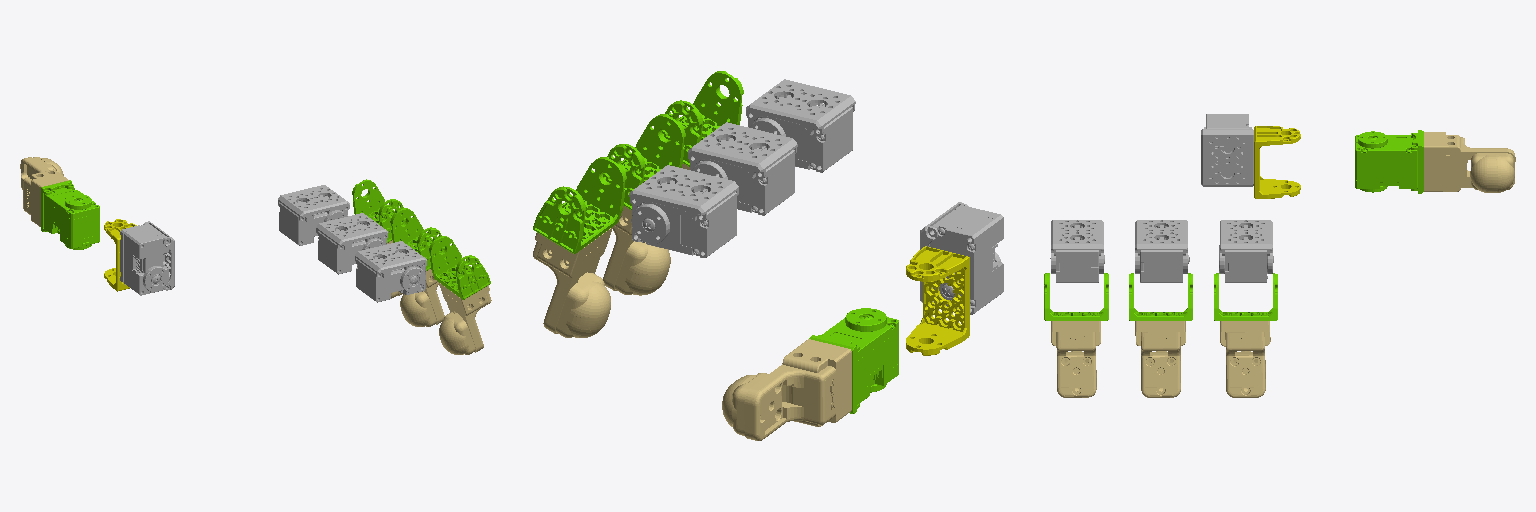
--- Facts derived from the render (not from the file) ---
Views: 3 orthographic renders of the robot side by side, from view 1: azimuth 30°, elevation 25°; view 2: azimuth 150°, elevation 25°; view 3: azimuth 270°, elevation 25°.
Robot: leap_right_dottip — 29 links, 28 joints (16 revolute, 12 fixed); root link palm_center; default pose: all joints at 0 but 3 set to mid-range because 0 is outside their limits (j3 = 1.25, j7 = 1.25, j11 = 1.25).
Links seen in each view (by area): view 1: pip_4, pip_3, thumb_tip_base, pip, pip_2, fingertip_rf, tip_base_3, thumb_fingertip, fingertip_mf, tip_base, tip_base_2, thumb_pip; view 2: thumb_fingertip, pip, pip_2, pip_3, fingertip_if, tip_base, pip_4, thumb_pip, thumb_tip_base, fingertip_mf, tip_base_2, tip_base_3; view 3: thumb_fingertip, thumb_tip_base, pip_4, fingertip_mf, pip, fingertip_if, pip_2, fingertip_rf, pip_3, thumb_pip, tip_base_3, tip_base_2 (+1 smaller).
Link boxes in pixels (x1=…): pip_4: x1=120, y1=221, x2=174, y2=295; pip_3: x1=355, y1=241, x2=426, y2=302; thumb_tip_base: x1=41, y1=180, x2=99, y2=249; pip: x1=278, y1=185, x2=349, y2=245; pip_2: x1=316, y1=213, x2=388, y2=274; fingertip_rf: x1=438, y1=282, x2=491, y2=354; tip_base_3: x1=429, y1=236, x2=490, y2=299; thumb_fingertip: x1=20, y1=157, x2=68, y2=226; fingertip_mf: x1=400, y1=245, x2=444, y2=326; tip_base: x1=352, y1=179, x2=406, y2=242; tip_base_2: x1=390, y1=208, x2=445, y2=270; thumb_pip: x1=104, y1=219, x2=136, y2=291; thumb_fingertip: x1=722, y1=339, x2=851, y2=440; pip: x1=629, y1=165, x2=738, y2=257; pip_2: x1=688, y1=122, x2=797, y2=215; pip_3: x1=746, y1=79, x2=855, y2=172; fingertip_if: x1=533, y1=227, x2=612, y2=337; tip_base: x1=533, y1=157, x2=626, y2=253; pip_4: x1=920, y1=202, x2=1003, y2=314; thumb_pip: x1=906, y1=246, x2=969, y2=355; thumb_tip_base: x1=809, y1=308, x2=898, y2=413; fingertip_mf: x1=603, y1=206, x2=670, y2=295; tip_base_2: x1=601, y1=114, x2=685, y2=209; tip_base_3: x1=660, y1=71, x2=743, y2=166; thumb_fingertip: x1=1424, y1=132, x2=1515, y2=192; thumb_tip_base: x1=1355, y1=130, x2=1423, y2=193; pip_4: x1=1201, y1=114, x2=1253, y2=186; fingertip_mf: x1=1135, y1=321, x2=1185, y2=397; pip: x1=1219, y1=220, x2=1273, y2=282; fingertip_if: x1=1220, y1=321, x2=1270, y2=397; pip_2: x1=1135, y1=220, x2=1189, y2=282; fingertip_rf: x1=1051, y1=321, x2=1100, y2=397; pip_3: x1=1050, y1=220, x2=1104, y2=282; thumb_pip: x1=1254, y1=126, x2=1300, y2=198; tip_base_3: x1=1044, y1=273, x2=1108, y2=320; tip_base_2: x1=1129, y1=273, x2=1192, y2=320.
Bounding box of the posed robot: 0.1937 × 0.2533 × 0.0842 m (x, y, z).
Meshes: 10 distinct files referenced, 13 mesh visuals loaded (6 Collada DAE); not drawn: 8 (reference not matched to a file when rendering).

The robot description file, URDF, robot "leap_right_dottip":
<?xml version="1.0"?>

<robot name="leap_right_dottip">

    <link name="palm_center">
    </link>

    <joint name="palm_joint" type="fixed">
        <parent link="palm_center" />
        <child link="palm_lower" />
        <origin xyz="0.07 0.02239 0.0"
            rpy="0 0 0" />
    </joint>


    <link name="palm_lower">
        <visual>
            <origin xyz="-0.0200 0.02575 -0.0347" rpy="0 -0 0" />
            <geometry>
                <mesh filename="./meshes/palm_lower.dae"/>
            </geometry>
            <material name="palm_lower_material">
                <color rgba="0.60392 0.14902 0.14902 1.0"/>
            </material>
        </visual>
        <collision>
            <origin xyz="-0.0200 0.02575 -0.0347" rpy="0 -0 0" />
            <geometry>
                <mesh filename="./meshes/palm_lower.dae"/>
            </geometry>
        </collision>
        <inertial>
            <origin xyz="0 0 0" rpy="0 0 0"/>
            <mass value="0.237" />
            <inertia ixx="0.000354094" ixy="-0.000001193" ixz="-0.000002445" iyy="0.000260915" iyz="-0.000002905" izz="0.000529257" />
        </inertial>
    </link>




    <link name="mcp_joint">
        <visual>
            <origin xyz="0.00840 0.00776 0.01466" rpy="0 0 0" />
            <geometry>
                <mesh filename="./meshes/mcp_joint.dae"/>
            </geometry>
            <material name="mcp_joint_material">
                <color rgba="0.86666 0.86666 0.050980 1.0"/>
            </material>
        </visual>
        <collision>
            <origin xyz="0.00840 0.00776 0.01466" rpy="0 0 0" />
            <geometry>
                <mesh filename="./meshes/mcp_joint.dae"/>
            </geometry>
        </collision>
        <inertial>
            <origin xyz="0 0 0" rpy="0 0 0"/>
            <mass value="0.044" />
            <inertia ixx="0.000011499" ixy="0.000003049" ixz="0.000000121" iyy="0.000007796" iyz="0.000000112" izz="0.000014759" />
        </inertial>
    </link>

    <joint name="j1" type="revolute">
        <origin xyz="-0.0070 0.0230 -0.0187" rpy="1.570796 1.570796 0" />
        <parent link="palm_lower" />
        <child link="mcp_joint" />
        <axis xyz="0 0 -1"/>
        <limit effort="0.95" velocity="8.48" lower = "-0.314" upper = "2.23"/>
        <!-- <joint_properties friction="0.0"/> -->
    </joint>


    <link name="pip">
        <visual>
            <origin xyz="0.00964 0.000299 0.000784" rpy="-1.570796 -1.570796 0" />
            <geometry>
                <mesh filename="./meshes/pip.dae"/>
            </geometry>
            <material name="pip_material">
                <color rgba="0.7490196 0.7490196 0.7490196 1.0"/>
            </material>
        </visual>
        <collision>
            <origin xyz="0.00964 0.000299 0.000784" rpy="-1.570796 -1.570796 0" />
            <geometry>
                <mesh filename="./meshes/pip.dae"/>
            </geometry>
        </collision>
        <inertial>
            <origin xyz="0 0 0" rpy="0 0 0"/>
            <mass value="0.032" />
            <inertia ixx="0.000004798" ixy="0.000000012" ixz="0.000000004" iyy="0.000002862" iyz="0.000000011" izz="0.000004234" />
        </inertial>
    </link>

    <joint name="j0" type="revolute">
        <origin xyz="-0.0122 0.0380 0.0145" rpy="-1.570796 0 1.570796" />
        <parent link="mcp_joint" />
        <child link="pip" />
        <axis xyz="0 0 -1"/>
        <!-- <limit effort="0.95" velocity="8.48" lower = "-0.80" upper = "0.05"/> -->
        <limit effort="0.95" velocity="8.48" lower = "-1.047" upper = "1.047"/>
        <!-- <joint_properties friction="0.0"/> -->
    </joint>

    <link name="dip">
        <visual>
            <origin xyz="0.021133 -0.0084321 0.009785" rpy="-3.1415926 0 0" />
            <geometry>
                <mesh filename="./meshes/dip.dae"/>
            </geometry>
            <!-- <material name="dip_material">
                <color rgba="0.866666 0.86666666 0.05098039 1.0"/>
            </material> -->
        </visual>
        <collision>
            <origin xyz="0.021133 -0.0084321 0.009785" rpy="-3.1415926 0 0" />
            <geometry>
                <mesh filename="./meshes/dip.dae"/>
            </geometry>
        </collision>
        <inertial>
            <origin xyz="0 0 0" rpy="0 0 0"/>
            <mass value="0.037" />
            <inertia ixx="0.000005542" ixy="-0.000000607" ixz="-0.000000017" iyy="0.000005727" iyz="-0.000000023" izz="0.000006682" />
        </inertial>
    </link>

    <joint name="j2" type="revolute">
        <origin xyz="0.01499 0.014299 -0.01299" rpy="1.570796 -1.570796 0" />
        <parent link="pip" />
        <child link="dip" />
        <axis xyz="0 0 -1"/>
        <limit effort="0.95" velocity="8.48" lower = "0.00" upper = "1.885"/>
        <!-- <joint_properties friction="0.0"/> -->
    </joint>

    <link name="tip_base">
        <visual>
            <origin xyz="0 -0.014 0.014499" rpy="3.14159 0 0 " />
            <geometry>
                <mesh filename="./meshes/tip_base.dae"/>
            </geometry>
            <material name="tip_base_material">
                <color rgba="0.46777 0.86666 0.05098 1.0"/>
            </material>
        </visual>
        <collision>
            <origin xyz="0 -0.014 0.014499" rpy="3.14159 0 0 " />
            <geometry>
                <mesh filename="./meshes/tip_base.dae"/>
            </geometry>
        </collision>
        <inertial>
            <origin xyz="0 0 0" rpy="0 0 0"/>
            <mass value="0.008" />
            <inertia ixx="0.000003368" ixy="0.000000115" ixz="0" iyy="0.000001556" iyz="0" izz="0.000002863" />
        </inertial>
    </link>

    <joint name="j3" type="revolute">
        <origin xyz="0 -0.03610 0 " rpy="0 0 0 " />
        <!-- <origin xyz="0 0 0 " rpy="0 0 0 " /> -->
        <parent link="dip" />
        <child link="tip_base" />
        <axis xyz="0 0 -1"/>
        <limit effort="0.95" velocity="8.48" lower = "0.50" upper = "2.00"/>
        <!-- <joint_properties friction="0.0"/> -->
    </joint>

    <link name="fingertip_if">
        <visual>
            <origin xyz="0 0 0" rpy="3.14159 0 -1.57080" />
            <geometry>
                <mesh filename="./meshes/DotTip.dae"/>
            </geometry>
            <material name="fingertip_material">
                <color rgba="0.8627 0.7868 0.5568 1.0"/>
            </material>
        </visual>
        <collision>
            <origin xyz="0 0 0" rpy="3.14159 0 -1.57080" />
            <geometry>
                <mesh filename="./meshes/DotTip.dae"/>
            </geometry>
        </collision>
        <inertial>
            <origin xyz="0 0 0" rpy="0 0 0"/>
            <mass value="0.016" />
            <inertia ixx="0.000003368" ixy="0.000000115" ixz="0" iyy="0.000001556" iyz="0" izz="0.000002863" />
        </inertial>
    </link>


    <joint name="if_tip" type="fixed">
        <origin xyz="-0.010  -0.048 0.014499" rpy="0 0 0 " />
        <parent link="tip_base" />
        <child link="fingertip_if" />
    </joint>

    <link name="if_tip_center">
    </link>
    <joint name="if_tip_center_joint" type="fixed">
        <parent link="fingertip_if" />
        <child link="if_tip_center" />
        <origin xyz="0 -0.010 0" rpy="-1.570796 0 -1.570796" />
    </joint>

    <link name="if_dip_upper">
    </link>
    <joint name="if_dip_upper_joint" type="fixed">
        <parent link="tip_base" />
        <child link="if_dip_upper" />
        <origin xyz="0.032 0 0" rpy="0 0 0" />
    </joint>


    <link name="mcp_joint_2">
        <visual>
            <origin xyz="0.0084 0.00776 0.0146576" rpy="0 0 0" />
            <geometry>
                <mesh filename="./meshes/mcp_joint.dae"/>
            </geometry>
            <material name="mcp_joint_material">
                <color rgba="0.86666666666666669627 0.86666666666666669627 0.050980392156862744391 1.0"/>
            </material>
        </visual>
        <collision>
            <origin xyz="0.0084 0.00776 0.0146576" rpy="0 0 0" />
            <geometry>
                <mesh filename="./meshes/mcp_joint.dae"/>
            </geometry>
        </collision>
        <inertial>
            <origin xyz="0 0 0" rpy="0 0 0"/>
            <mass value="0.044" />
            <inertia ixx="0.000011499" ixy="0.000003049" ixz="0.000000121" iyy="0.000007796" iyz="0.000000112" izz="0.000014759" />
        </inertial>
    </link>

    <link name="pip_2">
        <visual>
            <origin xyz="0.00964 0.000299 0.00078" rpy="-1.570796 -1.5707966 0" />
            <geometry>
                <mesh filename="./meshes/pip.dae"/>
            </geometry>
            <material name="pip_material">
                <color rgba="0.74901960784313725839 0.74901960784313725839 0.74901960784313725839 1.0"/>
            </material>
        </visual>
        <collision>
            <origin xyz="0.00964 0.000299 0.00078" rpy="-1.570796 -1.5707966 0" />
            <geometry>
                <mesh filename="./meshes/pip.dae"/>
            </geometry>
        </collision>
        <inertial>
            <origin xyz="0 0 0" rpy="0 0 0"/>
            <mass value="0.032" />
            <inertia ixx="0.000004798" ixy="0.000000012" ixz="0.000000004" iyy="0.000002862" iyz="0.000000011" izz="0.000004234" />
        </inertial>
    </link>

    <link name="dip_2">
        <visual>
            <origin xyz="0.02113 -0.008433 0.009785" rpy="-3.1415926 0 0 " />
            <geometry>
                <mesh filename="./meshes/dip.dae"/>
            </geometry>
            <!-- <material name="dip_material">
                <color rgba="0.8666666 0.86666666 0.050980 1.0"/>
            </material> -->
        </visual>
        <collision>
            <origin xyz="0.02113 -0.008433 0.009785" rpy="-3.1415926 0 0 " />
            <geometry>
                <mesh filename="./meshes/dip.dae"/>
            </geometry>
        </collision>
        <inertial>
            <origin xyz="0 0 0" rpy="0 0 0"/>
            <mass value="0.037" />
            <inertia ixx="0.000005542" ixy="-0.000000607" ixz="-0.000000017" iyy="0.000005727" iyz="-0.000000023" izz="0.000006682" />
        </inertial>
    </link>

    <link name="tip_base_2">
        <visual>
            <origin xyz="0 -0.014 0.014499" rpy="3.14159 0 0 " />
            <geometry>
                <mesh filename="./meshes/tip_base.dae"/>
            </geometry>
            <material name="tip_base_material">
                <color rgba="0.46777 0.86666666 0.05098039 1.0"/>
            </material>
        </visual>
        <collision>
            <origin xyz="0 -0.014 0.014499" rpy="3.14159 0 0 " />
            <geometry>
                <mesh filename="./meshes/tip_base.dae"/>
            </geometry>
        </collision>
        <inertial>
            <origin xyz="0 0 0" rpy="0 0 0"/>
            <mass value="0.008" />
            <inertia ixx="0.000003368" ixy="0.000000115" ixz="0" iyy="0.000001556" iyz="0" izz="0.000002863" />
        </inertial>
    </link>

    <link name="fingertip_mf">
        <visual>
            <origin xyz="0 0 0" rpy="3.14159 0 -1.57080" />
            <geometry>
                <mesh filename="./meshes/DotTip.dae"/>
            </geometry>
            <material name="fingertip_material">
                <color rgba="0.8627 0.7868 0.5568 1.0"/>
            </material>
        </visual>
        <collision>
            <origin xyz="0 0 0" rpy="3.14159 0 -1.57080"/>
            <geometry>
                <mesh filename="./meshes/DotTip.dae"/>
            </geometry>
        </collision>
        <inertial>
            <origin xyz="0 0 0" rpy="0 0 0"/>
            <mass value="0.016" />
            <inertia ixx="0.000003368" ixy="0.000000115" ixz="0" iyy="0.000001556" iyz="0" izz="0.000002863" />
        </inertial>
    </link>

    <joint name="j4" type="revolute">
        <origin xyz="-0.01220 0.0380 0.0145" rpy="-1.570796 0 1.570796" />
        <parent link="mcp_joint_2" />
        <child link="pip_2" />
        <axis xyz="0 0 -1"/>
        <!-- <limit effort="0.95" velocity="8.48" lower = "-0.30" upper = "0.30"/> -->
        <limit effort="0.95" velocity="8.48" lower = "-1.047" upper = "1.047"/>
        <joint_properties friction="0.0"/>
    </joint>

    <joint name="j5" type="revolute">
        <origin xyz="-0.007095 -0.022392 -0.01872" rpy="1.570796 1.570796 0" />
        <parent link="palm_lower" />
        <child link="mcp_joint_2" />
        <axis xyz="0 0 -1"/>
        <limit effort="0.95" velocity="8.48" lower = "-0.314" upper = "2.23"/>
        <joint_properties friction="0.0"/>
    </joint>

    <joint name="j6" type="revolute">
        <origin xyz="0.01499 0.01430 -0.0130" rpy="1.570796 -1.570796 0" />
        <parent link="pip_2" />
        <child link="dip_2" />
        <axis xyz="0 0 -1"/>
        <limit effort="0.95" velocity="8.48" lower = "0.00" upper = "1.885"/>
        <joint_properties friction="0.0"/>
    </joint>

    <joint name="j7" type="revolute">
        <origin xyz="0 -0.0360 0.0002" rpy="0 0 0" />
        <parent link="dip_2" />
        <child link="tip_base_2" />
        <axis xyz="0 0 -1"/>
        <limit effort="0.95" velocity="8.48" lower = "0.50" upper = "2.00"/>
        <joint_properties friction="0.0"/>
    </joint>

    <joint name="mf_tip" type="fixed">
        <origin xyz="-0.010  -0.048 0.014499" rpy="0 0 0 " />
        <parent link="tip_base_2" />
        <child link="fingertip_mf" />
    </joint>

    <link name="mf_tip_center">
        <!-- <visual>
            <origin xyz="0 0 0" rpy="0 0 0 " />
            <geometry>
                <sphere radius="0.01"/>
            </geometry>
            <material name="tip_base_material">
                <color rgba="1  0 0 1.0"/>
            </material>
        </visual> -->
    </link>
    <joint name="mf_tip_center_joint" type="fixed">
        <parent link="fingertip_mf" />
        <child link="mf_tip_center" />
        <!-- <origin rpy="0.00000 0.00000 0.00000" xyz="0 0 -0.07" /> -->
        <origin xyz="0 -0.010 0" rpy="-1.5707 0 -1.5707" />
    </joint>

    <link name="mf_dip_upper">
    </link>
    <joint name="mf_dip_upper_joint" type="fixed">
        <parent link="tip_base_2" />
        <child link="mf_dip_upper" />
        <origin xyz="0.032 0 0" rpy="0 0 0" />
    </joint>



    <link name="mcp_joint_3">
        <visual>
            <origin xyz="0.00840 0.007766 0.01465" rpy="0 0 0" />
            <geometry>
                <mesh filename="./meshes/mcp_joint.dae"/>
            </geometry>
            <material name="mcp_joint_material">
                <color rgba="0.866666 0.8666 0.05098 1.0"/>
            </material>
        </visual>
        <collision>
            <origin xyz="0.00840 0.007766 0.01465" rpy="0 0 0" />
            <geometry>
                <mesh filename="./meshes/mcp_joint.dae"/>
            </geometry>
        </collision>
        <inertial>
            <origin xyz="0 0 0" rpy="0 0 0"/>
            <mass value="0.044" />
            <inertia ixx="0.000011499" ixy="0.000003049" ixz="0.000000121" iyy="0.000007796" iyz="0.000000112" izz="0.000014759" />
        </inertial>
    </link>

    <link name="pip_3">
        <visual>
            <origin xyz="0.00964 0.000299 0.000784" rpy="-1.570796 -1.570796 0" />
            <geometry>
                <mesh filename="./meshes/pip.dae"/>
            </geometry>
            <material name="pip_material">
                <color rgba="0.7490196 0.7490196 0.7490196 1.0"/>
            </material>
        </visual>
        <collision>
            <origin xyz="0.00964 0.000299 0.000784" rpy="-1.570796 -1.570796 0" />
            <geometry>
                <mesh filename="./meshes/pip.dae"/>
            </geometry>
        </collision>
        <inertial>
            <origin xyz="0 0 0" rpy="0 0 0"/>
            <mass value="0.032" />
            <inertia ixx="0.000004798" ixy="0.000000012" ixz="0.000000004" iyy="0.000002862" iyz="0.000000011" izz="0.000004234" />
        </inertial>
    </link>

    <link name="dip_3">
        <visual>
            <origin xyz="0.0211 -0.0084 0.00978" rpy="-3.1415926 0 0" />
            <geometry>
                <mesh filename="./meshes/dip.dae"/>
            </geometry>
            <!-- <material name="dip_material">
                <color rgba="0.8666 0.866 0.050 1.0"/>
            </material> -->
        </visual>
        <collision>
            <origin xyz="0.0211 -0.0084 0.00978" rpy="-3.1415926 0 0" />
            <geometry>
                <mesh filename="./meshes/dip.dae"/>
            </geometry>
        </collision>
        <inertial>
            <origin xyz="0 0 0" rpy="0 0 0"/>
            <mass value="0.037" />
            <inertia ixx="0.000005542" ixy="-0.000000607" ixz="-0.000000017" iyy="0.000005727" iyz="-0.000000023" izz="0.000006682" />
        </inertial>
    </link>

    <link name="tip_base_3">
        <visual>
            <origin xyz="0 -0.014 0.014499" rpy="3.14159 0 0 " />
            <geometry>
                <mesh filename="./meshes/tip_base.dae"/>
            </geometry>
            <material name="tip_base_material">
                <color rgba="0.46777 0.866 0.05098 1.0"/>
            </material>
        </visual>
        <collision>
            <origin xyz="0 -0.014 0.014499" rpy="3.14159 0 0 " />
            <geometry>
                <mesh filename="./meshes/tip_base.dae"/>
            </geometry>
        </collision>
        <inertial>
            <origin xyz="0 0 0" rpy="0 0 0"/>
            <mass value="0.008" />
            <inertia ixx="0.000003368" ixy="0.000000115" ixz="0" iyy="0.000001556" iyz="0" izz="0.000002863" />
        </inertial>
    </link>

    <link name="fingertip_rf">
        <visual>
            <!-- <origin xyz="0 -0.017 0.014499" rpy="3.14159 0 -1.57080" /> -->
            <origin xyz="0 0 0 " rpy="3.14159 0 -1.57080" />
            <geometry>
                <mesh filename="./meshes/DotTip.dae"/>
            </geometry>
            <material name="fingertip_material">
                <color rgba="0.8627 0.7868 0.5568 1.0"/>
            </material>
        </visual>
        <collision>
            <origin xyz="0 0 0 " rpy="3.14159 0 -1.57080" />
            <geometry>
                <mesh filename="./meshes/DotTip.dae"/>
            </geometry>
        </collision>
        <inertial>
            <origin xyz="0 0 0" rpy="0 0 0"/>
            <mass value="0.016" />
            <inertia ixx="0.000003368" ixy="0.000000115" ixz="0" iyy="0.000001556" iyz="0" izz="0.000002863" />
        </inertial>
    </link>

    <joint name="j8" type="revolute">
        <origin xyz="-0.0122 0.03811 0.0144" rpy="-1.570796 0 1.570796" />
        <parent link="mcp_joint_3" />
        <child link="pip_3" />
        <axis xyz="0 0 -1"/>
        <!-- <limit effort="0.95" velocity="8.48" lower = "-0.05" upper = "0.80"/> -->
        <limit effort="0.95" velocity="8.48" lower = "-1.047" upper = "1.047"/>
        <joint_properties friction="0.0"/>
    </joint>

    <joint name="j9" type="revolute">
        <origin xyz="-0.0070 -0.06784 -0.0187" rpy="1.570796 1.570796 0" />
        <parent link="palm_lower" />
        <child link="mcp_joint_3" />
        <axis xyz="0 0 -1"/>
        <limit effort="0.95" velocity="8.48" lower = "-0.314" upper = "2.23"/>
        <joint_properties friction="0.0"/>
    </joint>

    <joint name="j10" type="revolute">
        <origin xyz="0.014999 0.014299 -0.0129" rpy="1.570796 -1.570796 0" />
        <parent link="pip_3" />
        <child link="dip_3" />
        <axis xyz="0 0 -1"/>
        <limit effort="0.95" velocity="8.48" lower = "0.00" upper = "1.885"/>
        <joint_properties friction="0.0"/>
    </joint>

    <joint name="j11" type="revolute">
        <origin xyz="0 -0.0360 0.0002" rpy="0 0 0" />
        <parent link="dip_3" />
        <child link="tip_base_3" />
        <axis xyz="0 0 -1"/>
        <limit effort="0.95" velocity="8.48" lower = "0.50" upper = "2.00"/>    #2.042
        <joint_properties friction="0.0"/>
    </joint>

    <joint name="rf_tip" type="fixed">
        <origin xyz="-0.010  -0.048 0.014499" rpy="0 0 0 " />
        <parent link="tip_base_3" />
        <child link="fingertip_rf" />
    </joint>

    <link name="rf_tip_center">
        <!-- <visual>
            <origin xyz="0 0 0" rpy="0 0 0 " />
            <geometry>
                <sphere radius="0.01"/>
            </geometry>
            <material name="tip_base_material">
                <color rgba="1  0 0 1.0"/>
            </material>
        </visual> -->
    </link>
    <joint name="rf_tip_center_joint" type="fixed">
        <parent link="fingertip_rf" />
        <child link="rf_tip_center" />
        <!-- <origin rpy="0.00000 0.00000 0.00000" xyz="0 0 -0.07" /> -->
        <origin xyz="0 -0.010 0" rpy="-1.5707963 0 -1.5707963" />
    </joint>

    <link name="rf_dip_upper">
    </link>
    <joint name="rf_dip_upper_joint" type="fixed">
        <parent link="tip_base_3" />
        <child link="rf_dip_upper" />
        <origin xyz="0.032 0 0" rpy="0 0 0" />
    </joint>


    <link name="pip_4">
        <visual>
            <origin xyz="-0.0053 0.0002 0.000784" rpy="-1.570796 -1.570796 0" />
            <geometry>
                <mesh filename="./meshes/pip.dae"/>
            </geometry>
            <material name="pip_material">
                <color rgba="0.7490 0.7490 0.7490 1.0"/>
            </material>
        </visual>
        <collision>
            <origin xyz="-0.0053 0.0002 0.000784" rpy="-1.570796 -1.570796 0" />
            <geometry>
                <mesh filename="./meshes/pip.dae"/>
            </geometry>
        </collision>
        <inertial>
            <origin xyz="0 0 0" rpy="0 0 0"/>
            <mass value="0.032" />
            <inertia ixx="0.000004798" ixy="0.000000012" ixz="0.000000004" iyy="0.000002862" iyz="0.000000011" izz="0.000004234" />
        </inertial>
    </link>

    <link name="thumb_pip">
        <visual>
            <origin xyz="0.01196 0 -0.0158" rpy="1.570796 0 0" />
            <geometry>
                <mesh filename="./meshes/thumb_pip.dae"/>
            </geometry>
            <material name="thumb_pip_material">
                <color rgba="0.8666 0.866666 0.05098 1.0"/>
            </material>
        </visual>
        <collision>
            <origin xyz="0.01196 0 -0.0158" rpy="1.570796 0 0" />
            <geometry>
                <mesh filename="./meshes/thumb_pip.dae"/>
            </geometry>
        </collision>
        <inertial>
            <origin xyz="0 0 0" rpy="0 0 0"/>
            <mass value="0.003" />
            <inertia ixx="0.000000593" ixy="0" ixz="0" iyy="0.000000549" iyz="0" izz="0.000000224" />
        </inertial>
    </link>

    <link name="thumb_dip">
        <visual>
            <origin xyz="0.04396 0.05795 -0.008628" rpy="0 0 0" />
            <geometry>
                <mesh filename="./meshes/thumb_dip.dae"/>
            </geometry>
            <material name="thumb_dip_material">
                <color rgba="0.866666 0.86666666 0.050980 1.0"/>
            </material>
        </visual>
        <collision>
            <origin xyz="0.04396 0.05795 -0.008628" rpy="0 0 0" />
            <geometry>
                <mesh filename="./meshes/thumb_dip.dae"/>
            </geometry>
        </collision>
        <inertial>
            <origin xyz="0 0 0" rpy="0 0 0"/>
            <mass value="0.038" />
            <inertia ixx="0.000008474" ixy="0.000000241" ixz="0.000000026" iyy="0.000003841" iyz="0.000000025" izz="0.000007679" />
        </inertial>
    </link>

    <link name="thumb_tip_base">
        <visual>
            <origin xyz="0 0 -0.0065" rpy="0 0 0 " />
            <geometry>
                <mesh filename="./meshes/thumb_tip_base.dae"/>
            </geometry>
            <material name="tip_base_material">
                <color rgba="0.46777 0.8666 0.05098 1.0"/>
            </material>
        </visual>
        <collision>
            <origin xyz="0 0 -0.0065" rpy="0 0 0 " />
            <geometry>
                <mesh filename="./meshes/thumb_tip_base.dae"/>
            </geometry>
        </collision>
        <inertial>
            <origin xyz="0 0 0" rpy="0 0 0"/>
            <mass value="0.008" />
            <inertia ixx="0.000003368" ixy="0.000000115" ixz="0" iyy="0.000001556" iyz="0" izz="0.000002863" />
        </inertial>
    </link>

    <link name="thumb_fingertip">
        <visual>
            <origin xyz="0 0 0 " rpy="3.14159 0 -1.57080" />
            <geometry>
                <mesh filename="./meshes/DotTip-thumb.dae"/>
            </geometry>
            <material name="fingertip_material">
                <color rgba="0.8627 0.7868 0.5568 1.0"/>
            </material>
        </visual>
        <collision>
            <origin xyz="0 0 0 " rpy="3.14159 0 -1.57080" />
            <geometry>
                <mesh filename="./meshes/DotTip-thumb.dae"/>
            </geometry>
        </collision>
        <inertial>
            <origin xyz="0 0 0" rpy="0 0 0"/>
            <mass value="0.016" />
            <inertia ixx="0.000003368" ixy="0.000000115" ixz="0" iyy="0.000001556" iyz="0" izz="0.000002863" />
        </inertial>
    </link>


    <!-- <link name="thumb_fingertip">
        <visual>
            <origin xyz="0.062559538462667388381 0.078459682911396988469 0.048992911807332215068" rpy="0 0 0" />
            <geometry>
                <mesh filename="./meshes/thumb_fingertip.dae"/>
            </geometry>
            <material name="thumb_fingertip_material">
                <color rgba="0.60392156862745094426 0.14901960784313725283 0.14901960784313725283 1.0"/>
            </material>
        </visual>
        <collision>
            <origin xyz="0.062559538462667388381 0.078459682911396988469 0.048992911807332215068" rpy="0 0 0" />
            <geometry>
                <mesh filename="./meshes/thumb_fingertip.dae"/>
            </geometry>
        </collision>
        <inertial>
            <origin xyz="0 0 0" rpy="0 0 0"/>
            <mass value="0.049" />
            <inertia ixx="0.000020372" ixy="-0.000000489" ixz="-0.00000003" iyy="0.000004336" iyz="-0.000000097" izz="0.000019845" />
        </inertial>
    </link> -->

    <joint name="j12" type="revolute">
        <origin xyz="-0.0694 -0.00124 -0.02162" rpy="0 1.570796 0" />
        <parent link="palm_lower" />
        <child link="pip_4" />
        <axis xyz="0 0 -1"/>
        <limit effort="0.95" velocity="8.48" lower = "-0.349" upper = "2.094"/>
        <joint_properties friction="0.0"/>
    </joint>

    <joint name="j13" type="revolute">
        <origin xyz="0 0.0143 -0.013" rpy="1.570796 -1.570796 0" />
        <parent link="pip_4" />
        <child link="thumb_pip" />
        <axis xyz="0 0 -1"/>
        <!-- <limit effort="0.95" velocity="8.48" lower = "-0.47" upper = "2.443"/> -->
        <limit effort="0.95" velocity="8.48" lower = "-0.47" upper = "1.20"/>
        <joint_properties friction="0.0"/>
    </joint>

    <joint name="j14" type="revolute">
        <origin xyz="0 0.014499 -0.017" rpy="-1.570796 0 0" />
        <parent link="thumb_pip" />
        <child link="thumb_dip" />
        <axis xyz="0 0 -1"/>
        <limit effort="0.95" velocity="8.48" lower = "-1.20" upper = "1.90"/>
        <joint_properties friction="0.0"/>
    </joint>

    <joint name="j15" type="revolute">
        <origin xyz="0 0.04659 0.00019" rpy="0 0 3.141592" />
        <parent link="thumb_dip" />
        <child link="thumb_tip_base" />
        <axis xyz="0 0 -1"/>
        <limit effort="0.95" velocity="8.48" lower = "-1.34" upper = "1.88"/>
        <joint_properties friction="0.0"/>
    </joint>

    <joint name="tf_tip" type="fixed">
        <origin xyz="-0.0102  -0.0645 -0.0145" rpy="0 0 0 " />
        <parent link="thumb_tip_base" />
        <child link="thumb_fingertip" />
    </joint>

    <link name="tf_tip_center">
        <!-- <visual>
            <origin xyz="0 0 0" rpy="0 0 0 " />
            <geometry>
                <sphere radius="0.01"/>
            </geometry>
            <material name="tip_base_material">
                <color rgba="1  0 0 1.0"/>
            </material>
        </visual> -->
    </link>
    <joint name="tf_tip_center_joint" type="fixed">
        <parent link="thumb_fingertip" />
        <child link="tf_tip_center" />
        <!-- <origin rpy="0.00000 0.00000 0.00000" xyz="0 0 -0.07" /> -->
        <origin xyz="0 -0.010 0" rpy="-1.570796 0 -1.570796" />
    </joint>

</robot>
